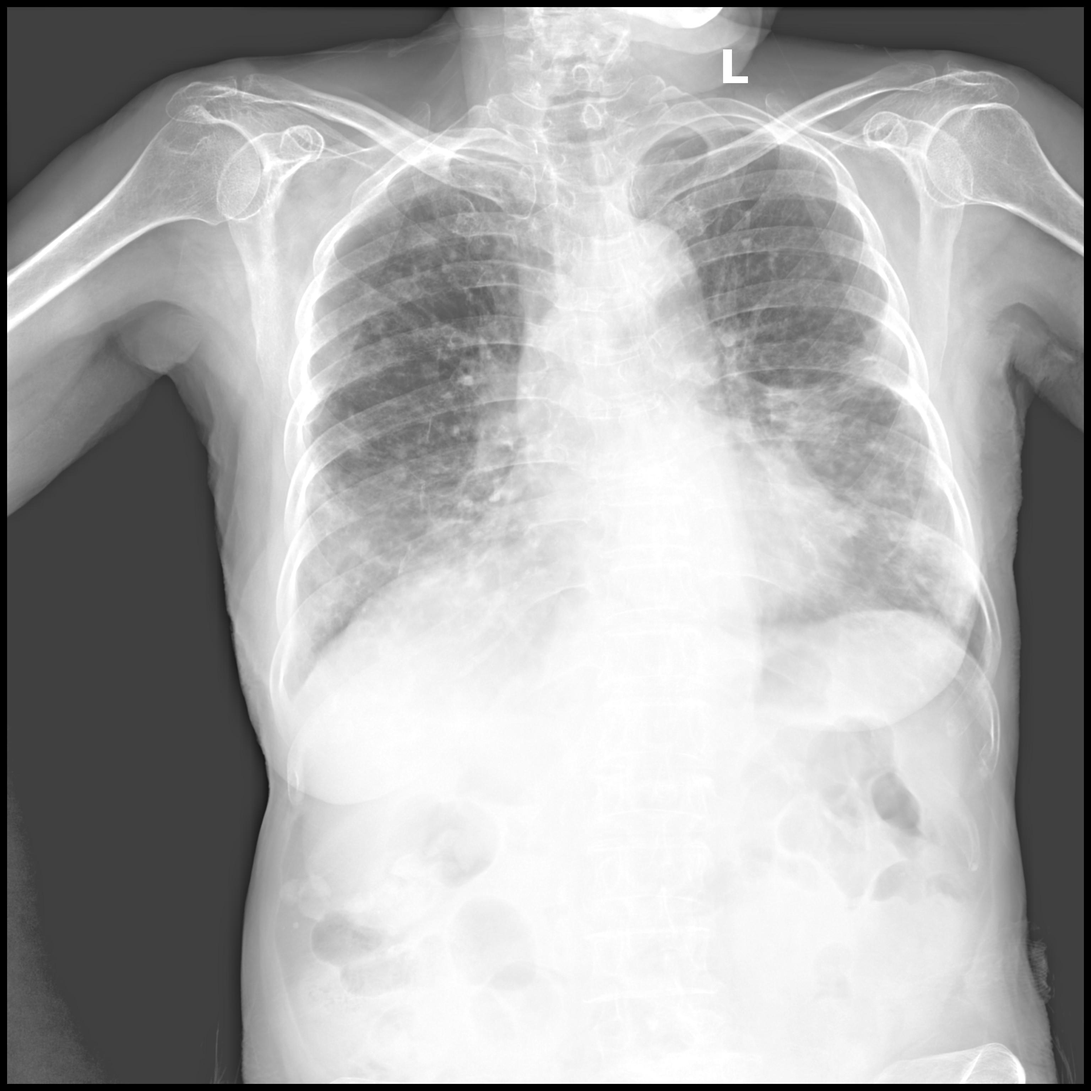Aortic enlargement: (526, 225, 701, 398)
Pleural thickening: (847, 289, 918, 412), (653, 111, 785, 140)
Pulmonary fibrosis: (741, 373, 889, 425)
